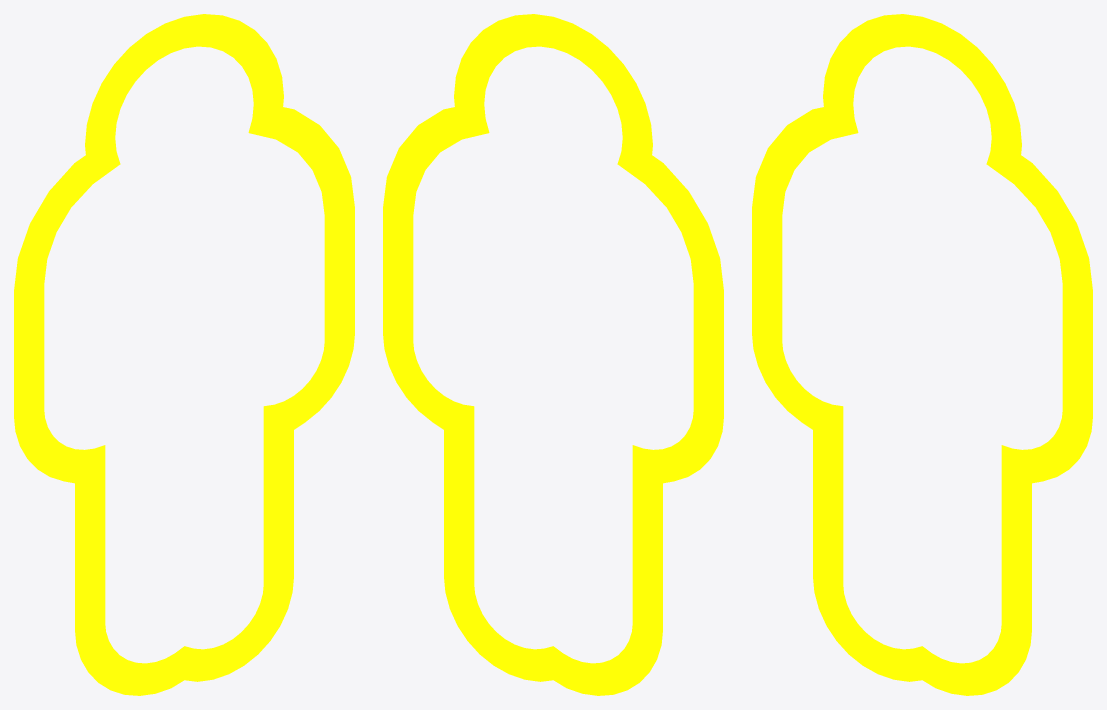
File: mdl_zesty_condo_screen_manoutline.gltf
3 renders of one model, left to right at view 1: azimuth 30°, elevation 25°; view 2: azimuth 150°, elevation 25°; view 3: azimuth 330°, elevation 25°, orthographic.
Visible parts, largest first — view 1: mdl_zesty_condo_screen_manoutline; view 2: mdl_zesty_condo_screen_manoutline; view 3: mdl_zesty_condo_screen_manoutline.
Part boxes in pixels (x1,y1,x2,y2): mdl_zesty_condo_screen_manoutline: (14,14,354,695); mdl_zesty_condo_screen_manoutline: (383,14,723,695); mdl_zesty_condo_screen_manoutline: (752,14,1092,695).
Size of the model in its own units: 0.1582 by 0.2971 by 0.
